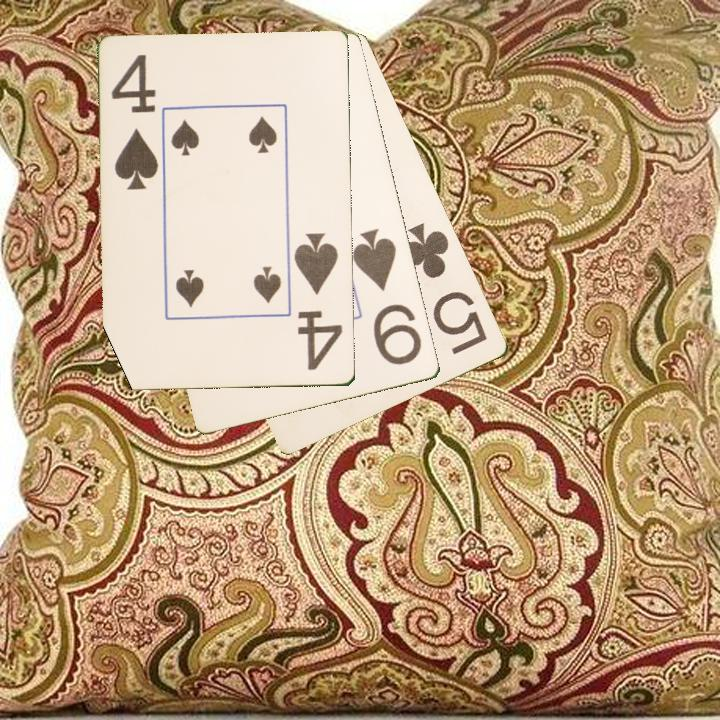4s: (291, 229, 346, 373), (108, 52, 162, 193)
5c: (398, 219, 491, 358)
9s: (349, 225, 425, 369)
